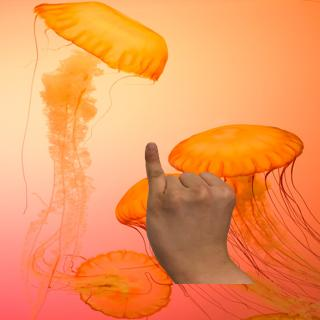FINE: (139, 138, 240, 275)
